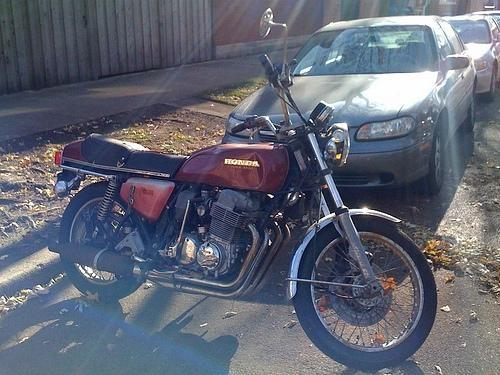car: (292, 14, 477, 198), (441, 14, 500, 102), (463, 10, 500, 28)
motorcycle: (48, 8, 440, 370)
